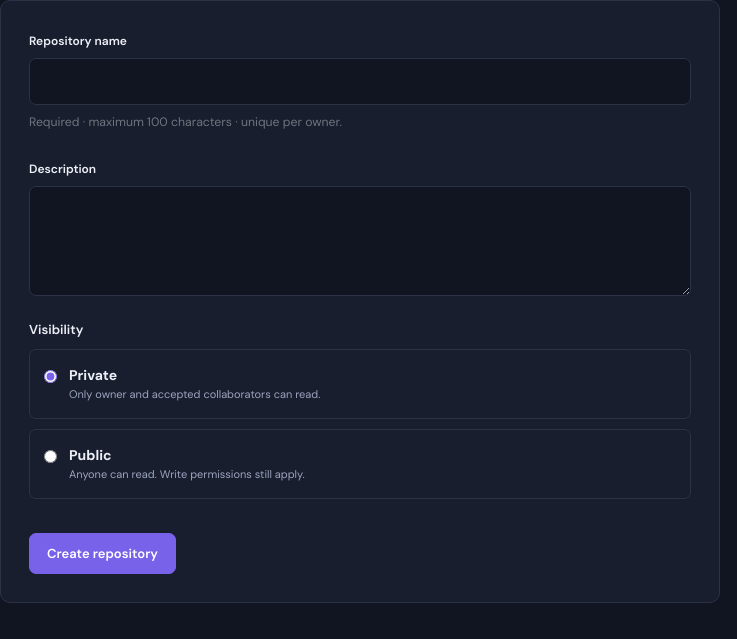
Scenario: repository mutations › validates a blank name and prevents submission
Click the button "Create repository".
click(102, 553)  # box [29, 533, 176, 574]
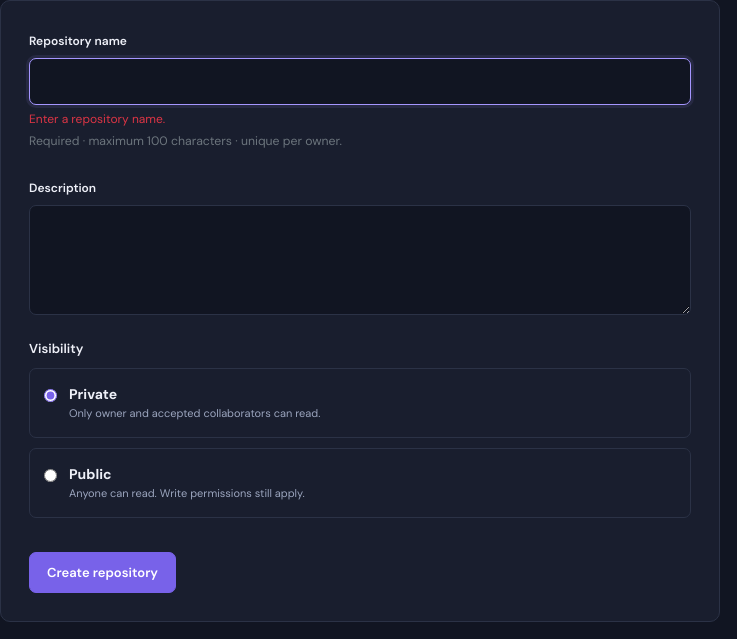
Result: the text "Enter a repository name." is shown at [29, 111, 165, 127]
